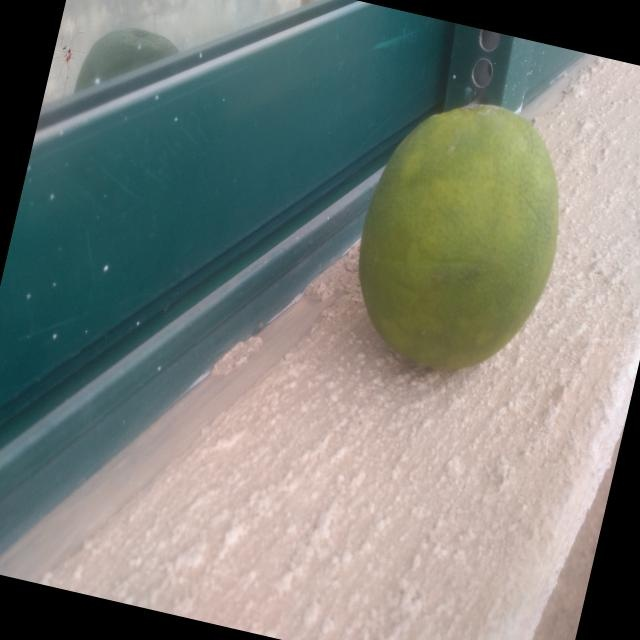agrume: (313, 63, 615, 441)
